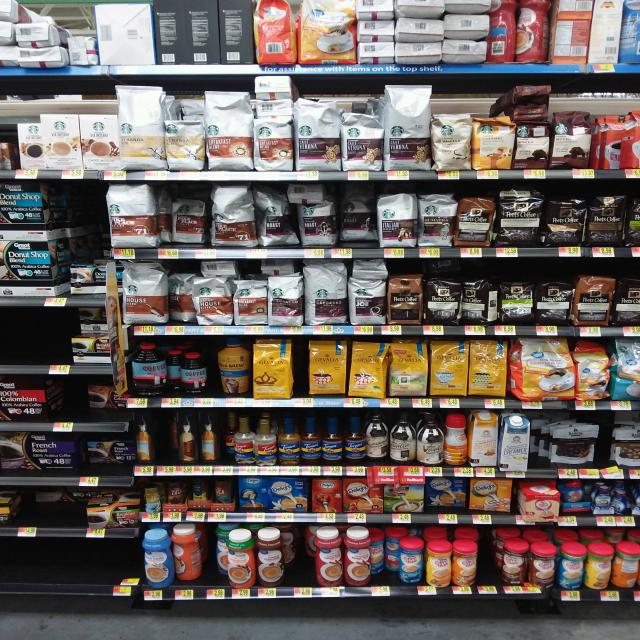unorganised: (136, 418, 220, 463), (172, 523, 226, 583), (252, 184, 298, 247), (165, 186, 207, 245), (339, 190, 375, 245), (515, 483, 562, 523), (89, 375, 128, 416), (85, 439, 131, 473), (167, 270, 195, 321), (283, 525, 313, 572), (370, 534, 399, 582), (614, 545, 640, 589), (18, 121, 43, 166), (76, 310, 109, 334), (168, 348, 182, 392)
